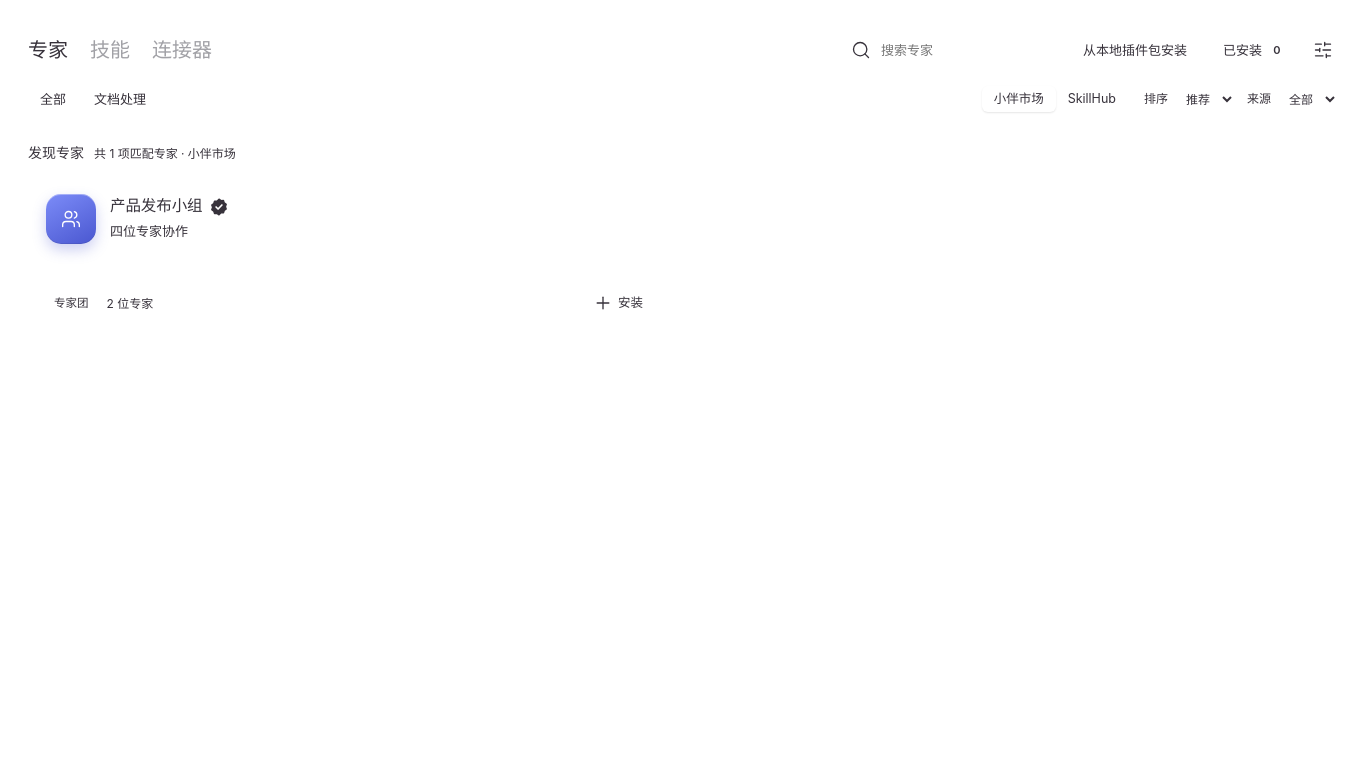
连接器 › reads the connection template from the market, then uses the usual connection flow
The image size is (1366, 780).
Click the tab with id "store-tab-connectors" at (182, 50), box [152,37,212,63]
Wait 300 ms
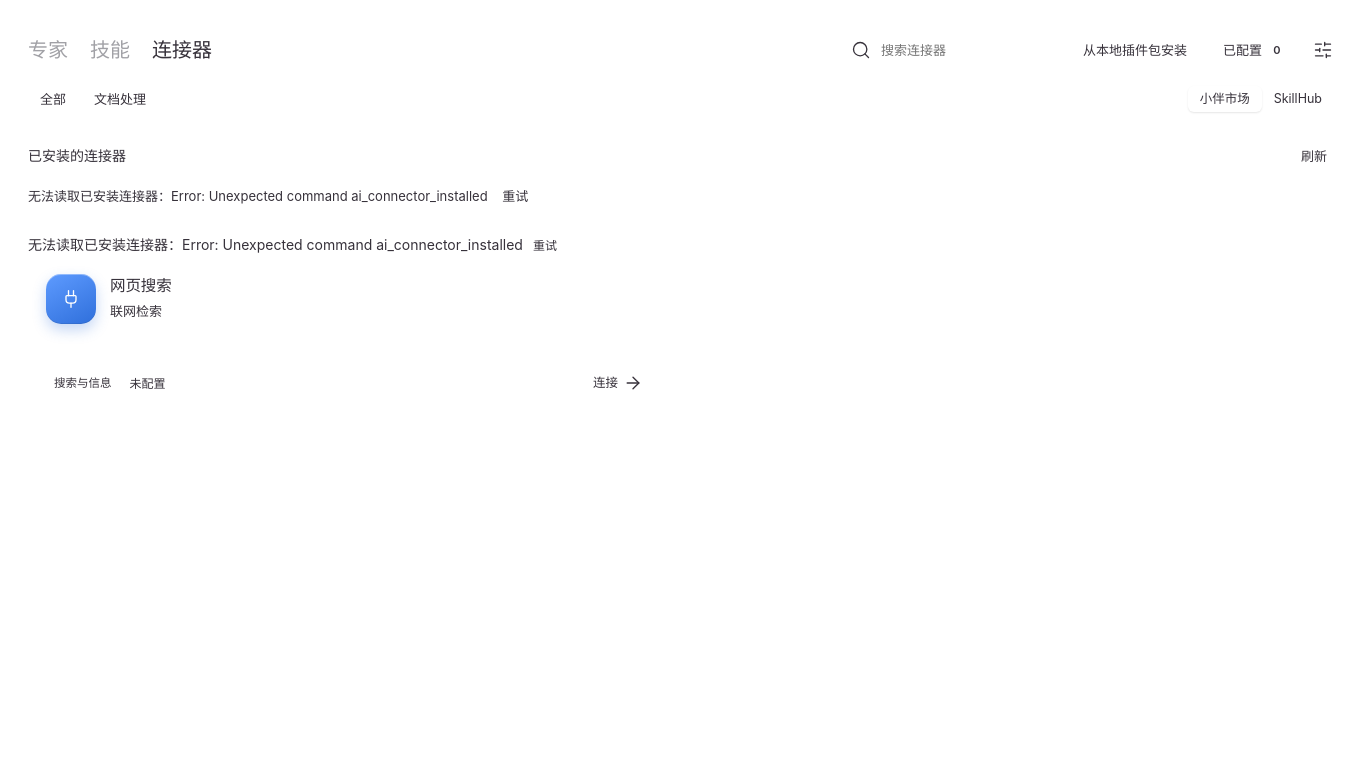
Click the button "连接" at (618, 383), box [579,368,657,398]
(page scrolled)
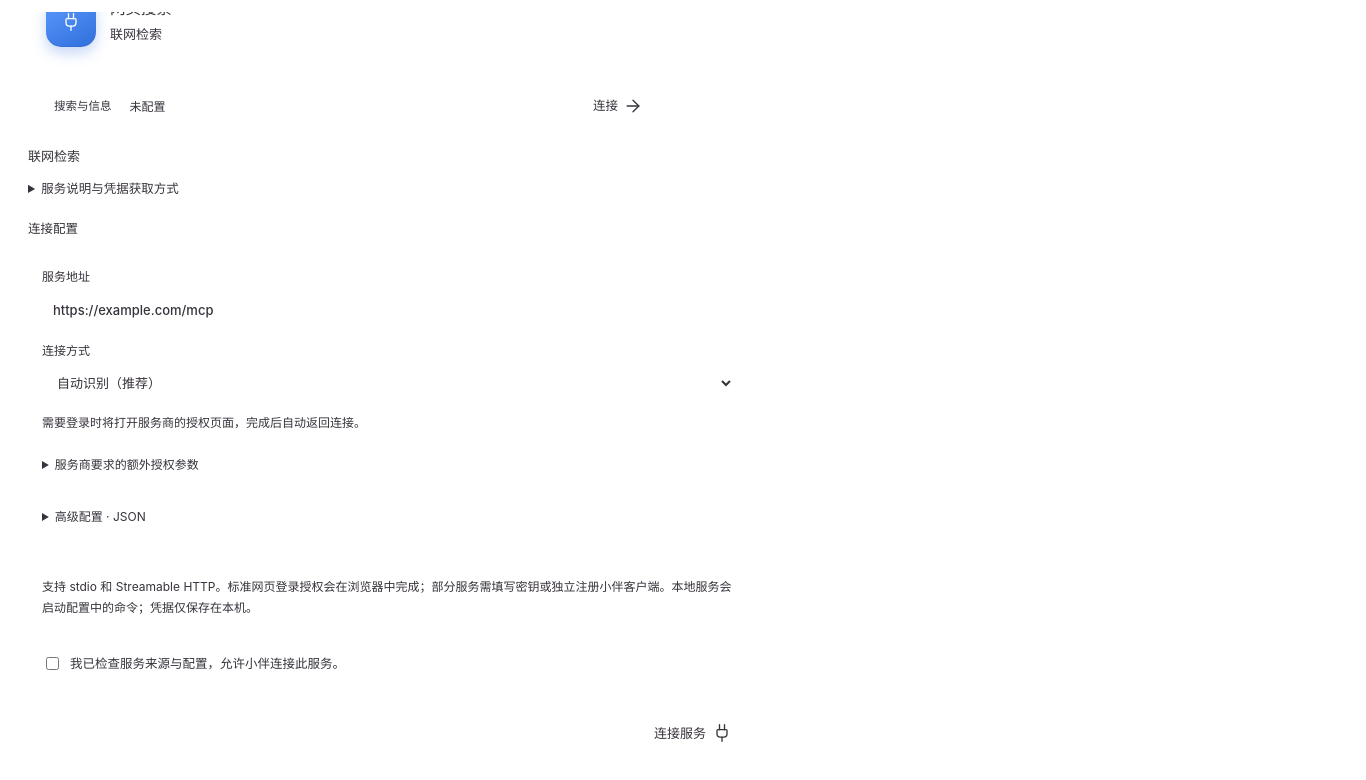
Expected: the element with class "test-modal" shows "服务说明", [41,181,179,196]
